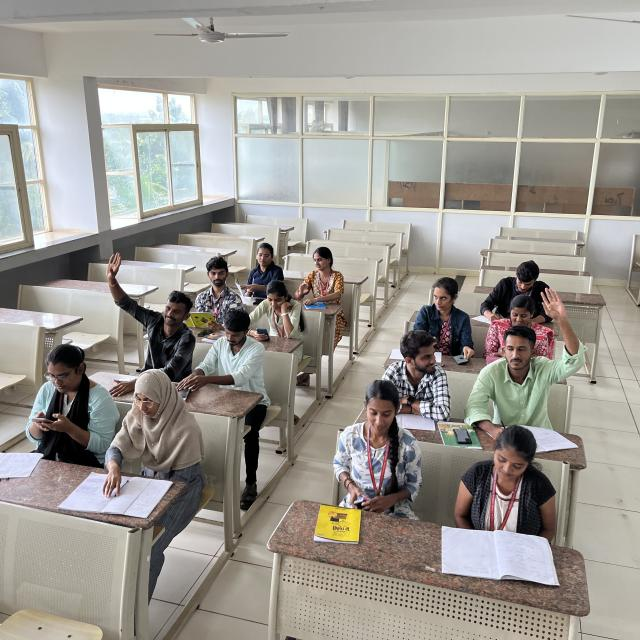Hand Rising: (75, 237, 197, 371), (491, 293, 591, 407)
Reading: (85, 366, 193, 514), (448, 436, 555, 578), (178, 250, 240, 339), (235, 240, 279, 308)
Using Phone: (11, 334, 119, 453), (248, 281, 298, 341)
Writing: (481, 259, 553, 327)
